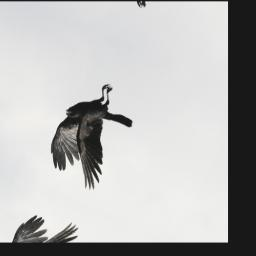Crow: (39, 69, 144, 197)
